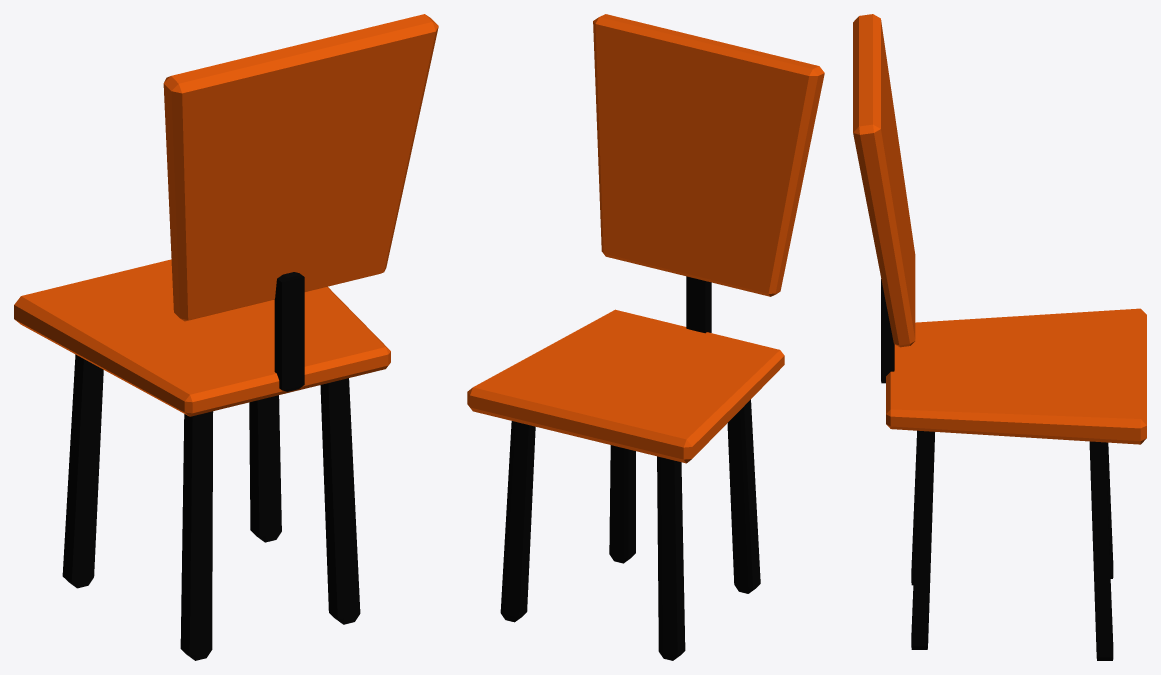
Rendered from silla de cafeteria .fbx.
3 views of the same model, side by side, from view 1: azimuth 30°, elevation 25°; view 2: azimuth 150°, elevation 25°; view 3: azimuth 270°, elevation 25° (orthographic). The views are drawn at different scales.
Parts seen in each view (by area): view 1: pCube7, pCube8, pCube11, pCube10, pCube9, pCube5, pCube12; view 2: pCube7, pCube8, pCube9, pCube5, pCube11, pCube10, pCube12; view 3: pCube8, pCube7, pCube5, pCube10, pCube12, pCube9, pCube11.
Boxes of the visible parts, x1,y1,x2,y2 form: pCube7: (163,14,438,321); pCube8: (14,259,390,416); pCube11: (180,411,213,660); pCube10: (320,378,360,624); pCube9: (62,354,103,588); pCube5: (249,395,281,542); pCube12: (274,272,304,391); pCube7: (593,14,824,296); pCube8: (467,309,784,463); pCube9: (657,456,685,660); pCube5: (500,421,535,622); pCube11: (727,399,760,593); pCube10: (609,445,635,563); pCube12: (686,276,711,333); pCube8: (886,308,1146,444); pCube7: (853,14,915,347); pCube5: (1089,441,1113,660); pCube10: (911,431,934,649); pCube12: (881,279,894,383); pCube9: (1105,442,1113,578); pCube11: (911,430,919,585).
Bounding box in the file's own units: 2.53 × 5.53 × 2.7.
